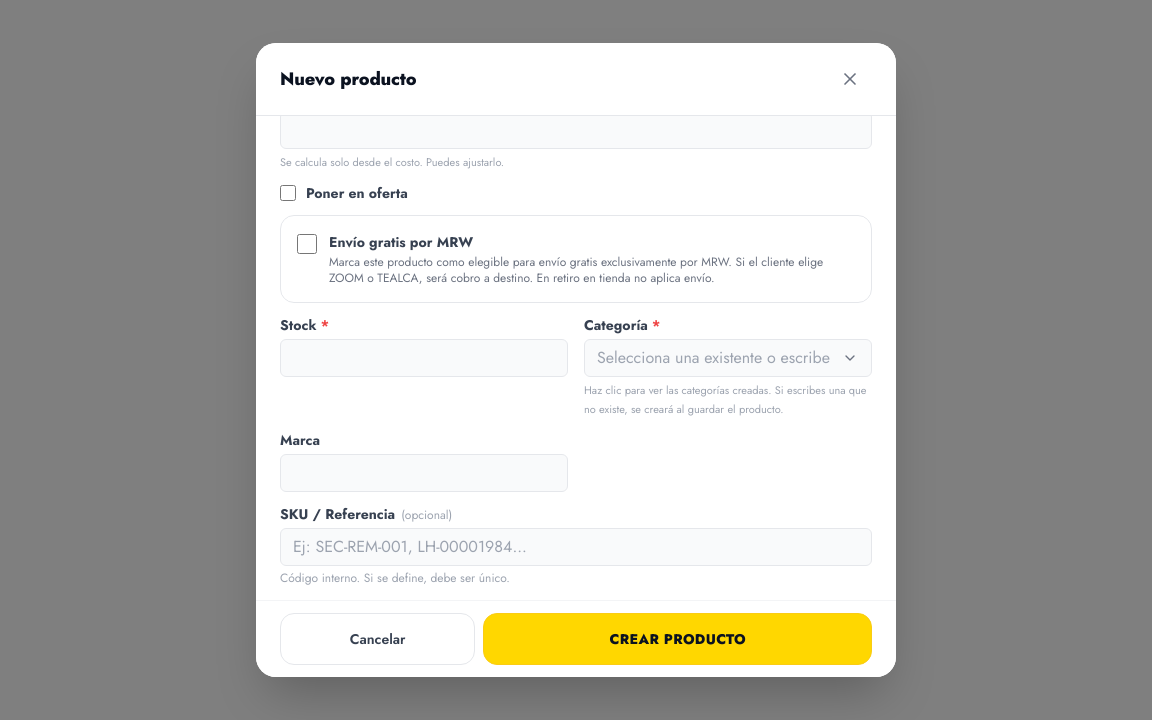
Scenario: AddProductModal — categoría › muestra categorías existentes al abrir el selector
(page scrolled)
Focus the dropdown labelled "Categoría *". click: (728, 358)
box: [584,339,872,377]
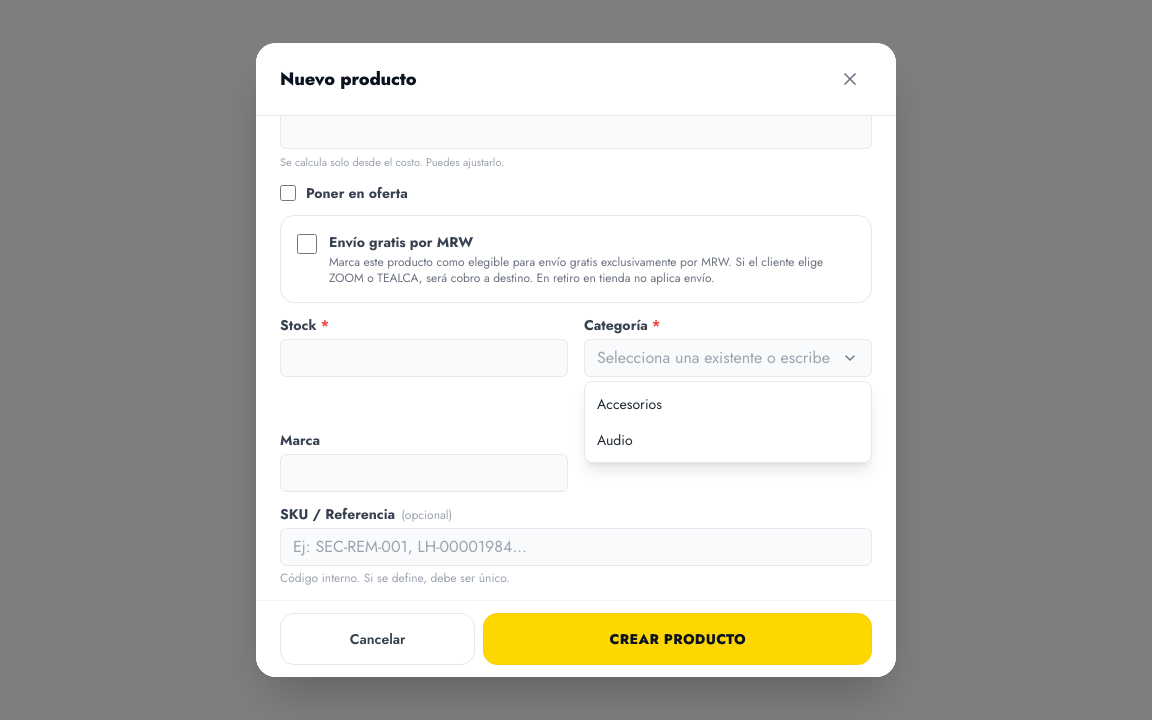
expect the list with test id "category-options" shows "Accesorios": met, box [585,386,871,422]
expect the list with test id "category-options" shows "Audio": met, box [585,422,871,458]
